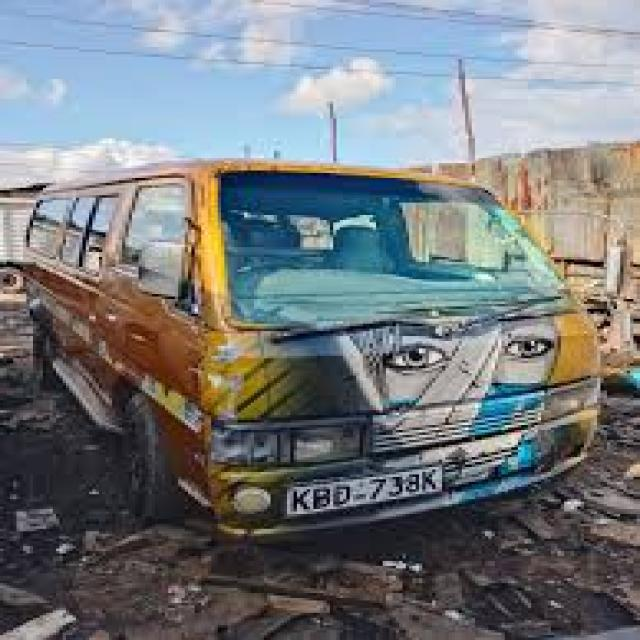matatu: (2, 62, 640, 562)
